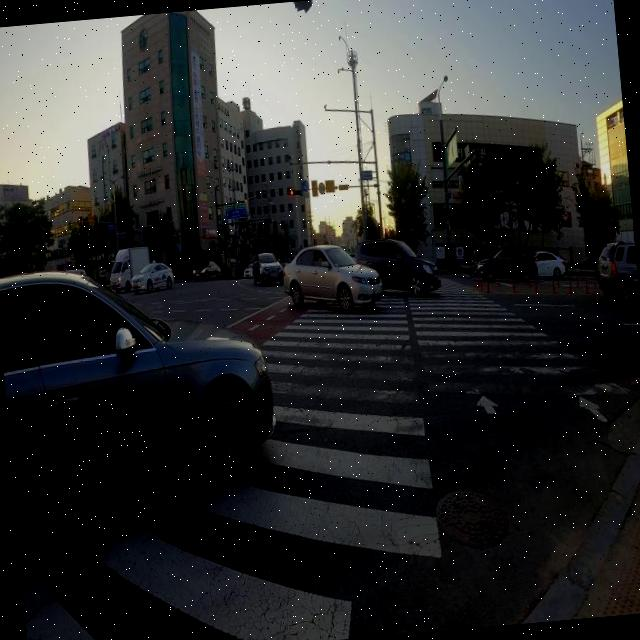crosswalk: (21, 271, 630, 640)
